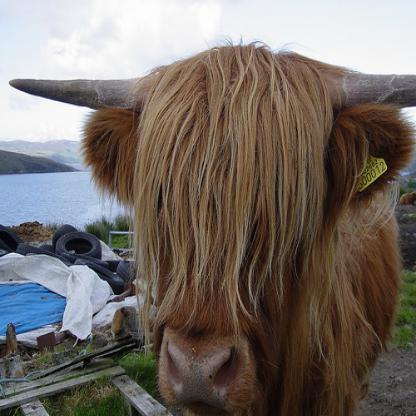cow: (8, 25, 415, 414)
